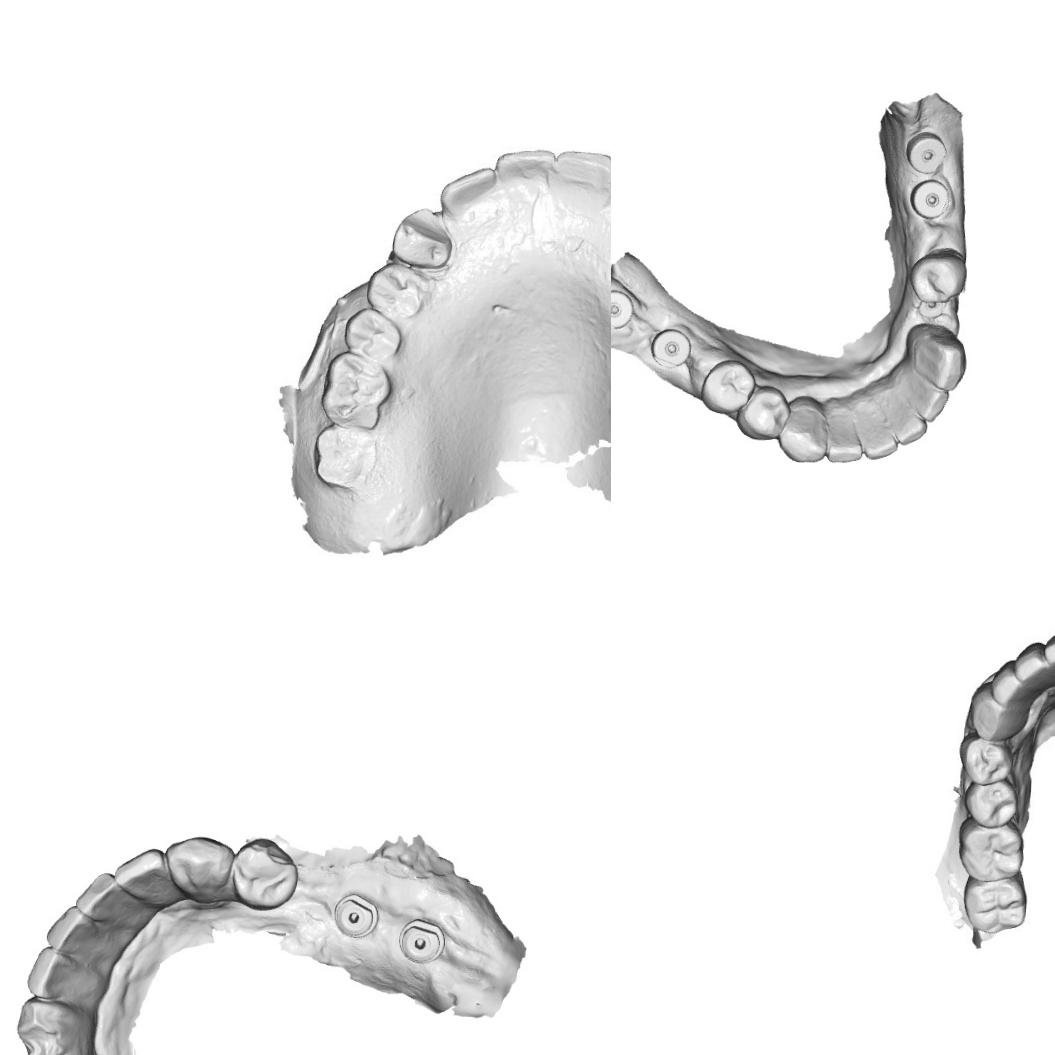canine: (164, 834, 233, 908), (13, 995, 91, 1055), (776, 396, 830, 464), (908, 332, 967, 392), (390, 210, 450, 265), (967, 693, 1029, 744)
implant: (396, 915, 456, 969), (334, 889, 380, 942), (904, 130, 948, 176), (909, 177, 951, 220), (650, 328, 693, 370), (611, 288, 635, 332), (917, 300, 944, 319)
incisor: (23, 944, 80, 1005), (496, 146, 560, 198), (109, 846, 171, 898), (43, 902, 101, 956), (73, 870, 124, 922), (554, 148, 611, 194), (854, 407, 900, 460), (824, 406, 865, 464), (1014, 640, 1055, 696), (444, 171, 497, 212), (885, 400, 929, 447), (902, 380, 950, 422), (992, 664, 1036, 706), (1046, 633, 1055, 682)
molar: (322, 353, 388, 424), (313, 423, 376, 494), (958, 820, 1026, 881), (962, 877, 1028, 933)
premolar: (230, 837, 297, 911), (698, 358, 757, 416), (909, 247, 967, 302), (734, 384, 788, 442), (367, 264, 427, 316), (965, 778, 1020, 829), (963, 736, 1012, 782), (347, 310, 397, 354)
